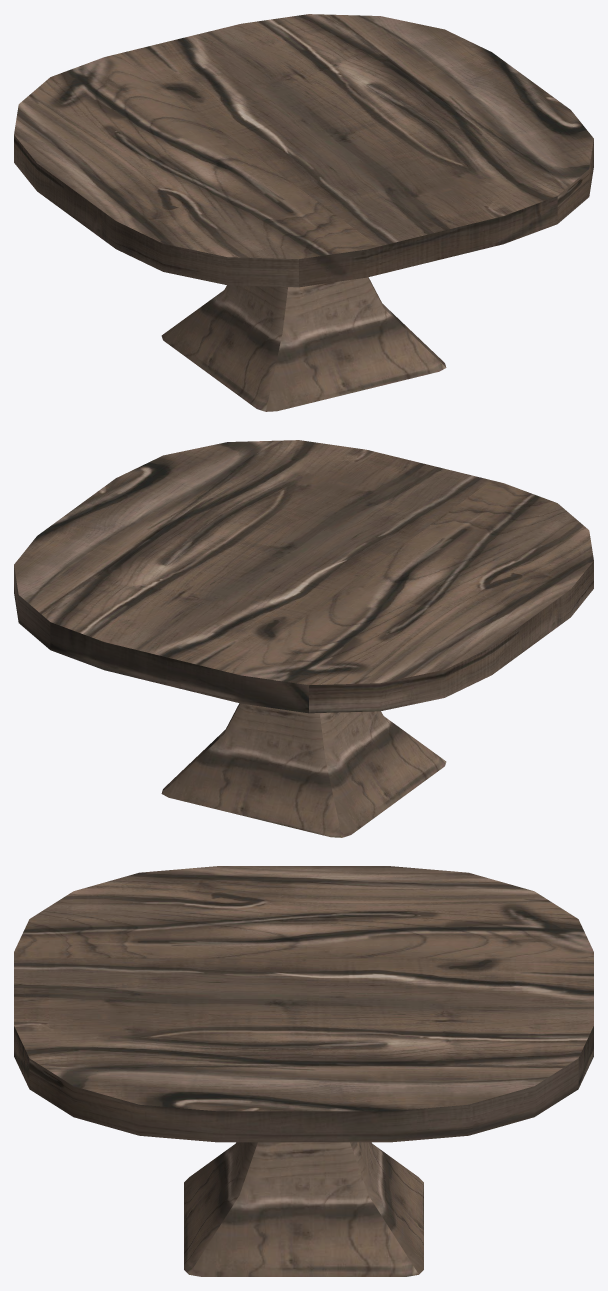
The model's file is FRM0510011.fbx.
3 views of the same model, one above another, from view 1: azimuth 30°, elevation 25°; view 2: azimuth 150°, elevation 25°; view 3: azimuth 270°, elevation 25° (orthographic). The views are drawn at different scales.
Visible parts, largest first — view 1: smFRM0510011; view 2: smFRM0510011; view 3: smFRM0510011.
Boxes of the visible parts, box(x1,y1,x2,y2) form: smFRM0510011: box(14, 14, 593, 411); smFRM0510011: box(14, 440, 593, 837); smFRM0510011: box(14, 866, 593, 1276).
Size of the model in its own units: 140 by 63.39 by 140.
Materials: 1 (1 with a texture image).
